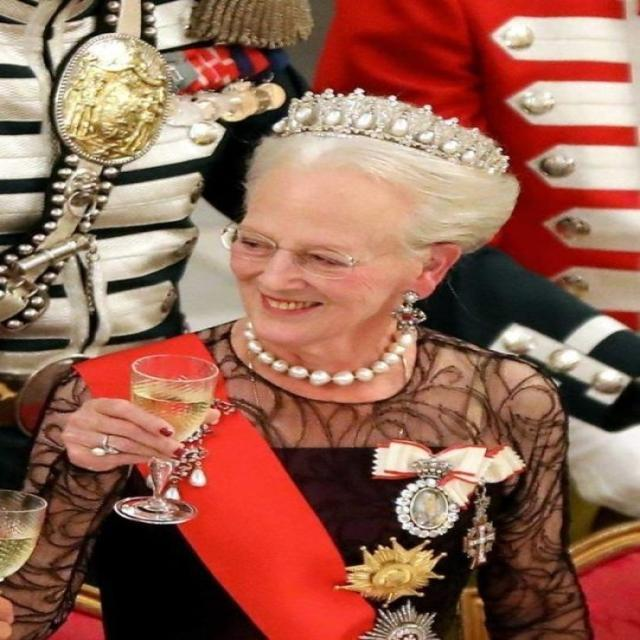Earring: (381, 287, 432, 342)
